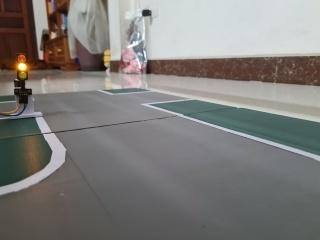yellow: (9, 47, 34, 87)
